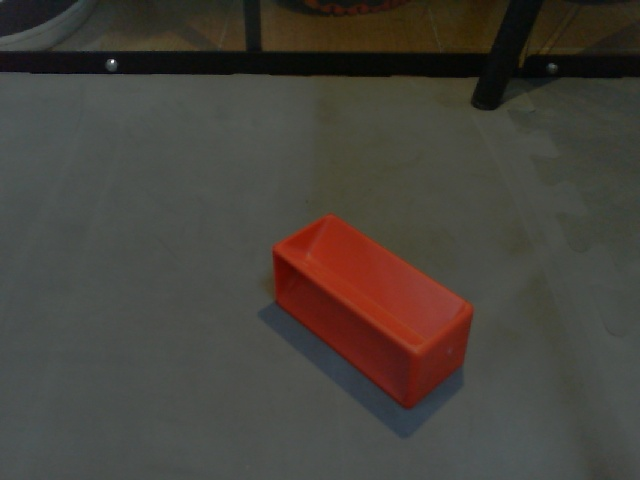RedSample: (271, 209, 475, 410)
